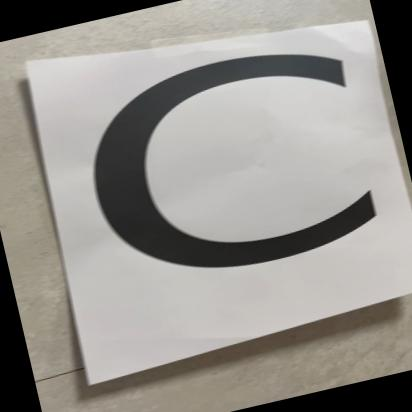seat: (14, 0, 412, 397)
